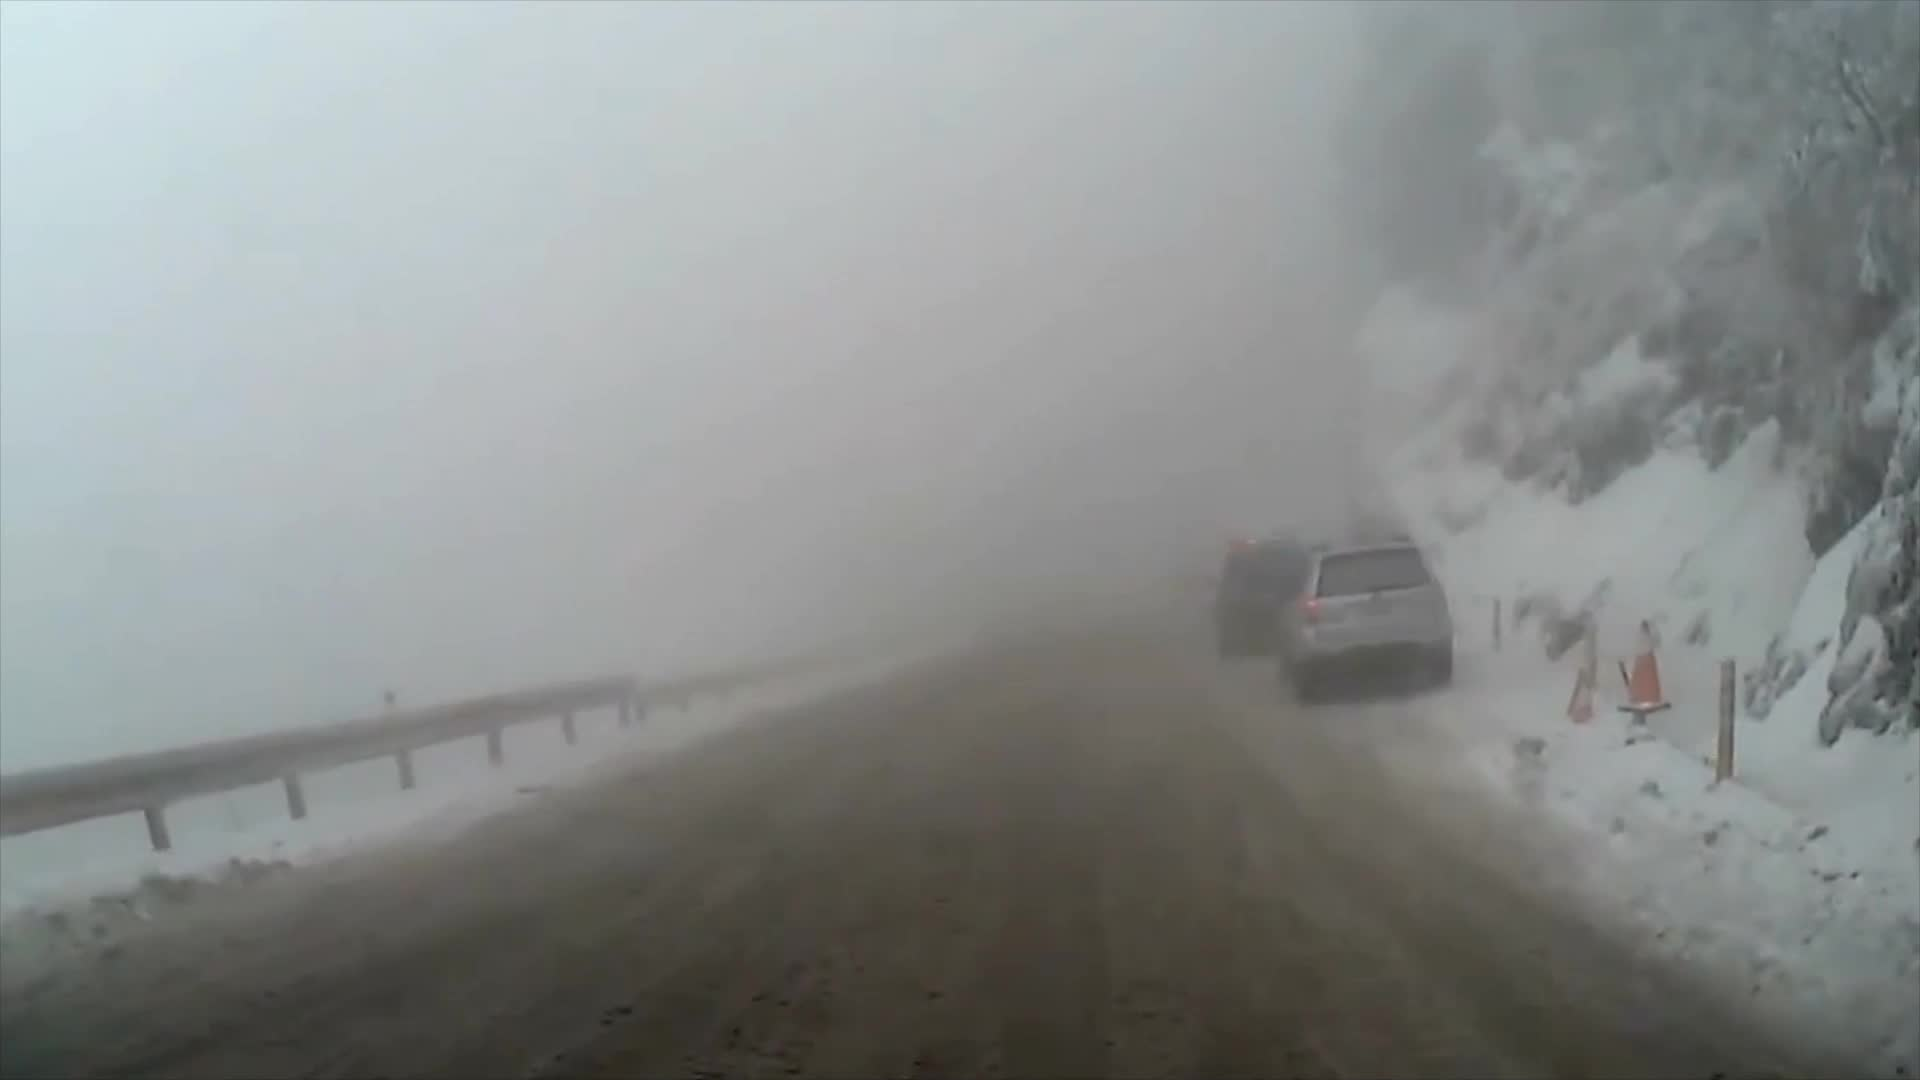vehicle: (1273, 531, 1449, 705), (1204, 537, 1329, 675)
